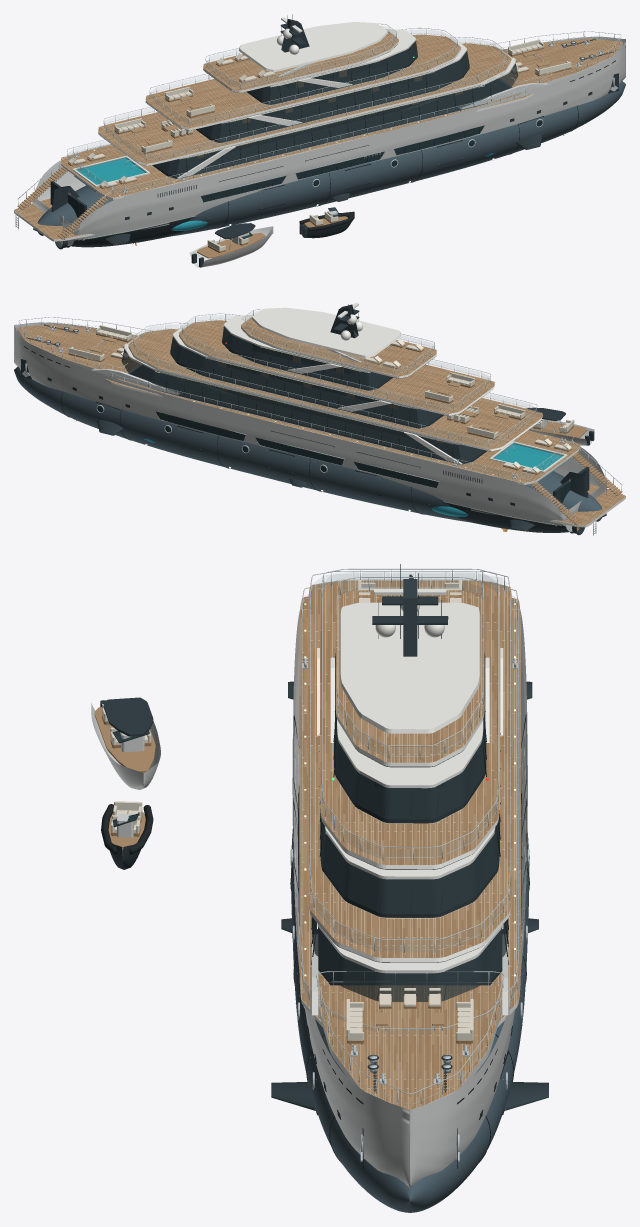
File: ATLAS_D_Reconstruction.glb
3 renders of one model, top to bottom at view 1: azimuth 30°, elevation 25°; view 2: azimuth 150°, elevation 25°; view 3: azimuth 270°, elevation 25°, orthographic. The views are drawn at different scales.
Visible parts, largest first — view 1: S_Hull__pearl, S_Architecture__archglass, D_Hull__subpaint, S_Architecture__graphite, S_Deck__teak1, S_Deck__teak0, S_Deck__teak3, S_Deck__teak2, S_Architecture__white, S_Rails__railglass, S_Rails__chrome, S_Mast__white (+20 smaller); view 2: S_Hull__pearl, S_Architecture__archglass, D_Hull__subpaint, S_Architecture__graphite, S_Deck__teak1, S_Deck__teak3, S_Deck__teak0, S_Deck__teak2, S_Architecture__white, S_Rails__railglass, S_Rails__chrome, S_Mast__white (+18 smaller); view 3: S_Hull__pearl, S_Architecture__white, S_Deck__teak3, S_Architecture__archglass, S_Architecture__graphite, S_Deck__teak1, S_Deck__teak0, S_Mast__white, S_Deck__teak2, D_Hull__subpaint, S_Rails__chrome, S_Rails__railglass (+10 smaller).
Boxes of the visible parts, x1,y1,x2,y2 form: S_Hull__pearl: [33, 36, 625, 245]; S_Architecture__archglass: [154, 41, 518, 176]; D_Hull__subpaint: [33, 81, 625, 236]; S_Architecture__graphite: [114, 44, 509, 178]; S_Deck__teak1: [15, 31, 622, 239]; S_Deck__teak0: [14, 33, 620, 238]; S_Deck__teak3: [14, 35, 621, 237]; S_Deck__teak2: [14, 34, 622, 239]; S_Architecture__white: [24, 29, 533, 239]; S_Rails__railglass: [68, 26, 542, 192]; S_Rails__chrome: [17, 23, 621, 238]; S_Mast__white: [239, 17, 387, 72]; S_Hull__pearl: [14, 322, 606, 531]; S_Architecture__archglass: [121, 327, 485, 462]; D_Hull__subpaint: [14, 366, 606, 521]; S_Architecture__graphite: [130, 330, 530, 464]; S_Deck__teak1: [18, 317, 624, 525]; S_Deck__teak3: [17, 319, 623, 525]; S_Deck__teak0: [18, 317, 625, 524]; S_Deck__teak2: [18, 319, 625, 525]; S_Architecture__white: [105, 314, 615, 525]; S_Rails__railglass: [98, 311, 572, 478]; S_Rails__chrome: [18, 309, 621, 524]; S_Mast__white: [252, 303, 400, 357]; S_Hull__pearl: [292, 609, 527, 1187]; S_Architecture__white: [299, 581, 520, 1027]; S_Deck__teak3: [299, 580, 520, 1109]; S_Architecture__archglass: [311, 658, 508, 1001]; S_Architecture__graphite: [312, 665, 507, 985]; S_Deck__teak1: [299, 580, 520, 1109]; S_Deck__teak0: [299, 580, 520, 1108]; S_Mast__white: [340, 588, 480, 733]; S_Deck__teak2: [299, 580, 520, 1109]; D_Hull__subpaint: [291, 785, 529, 1212]; S_Rails__chrome: [301, 568, 519, 1104]; S_Rails__railglass: [304, 571, 515, 1032].
Bounding box in the file's own units: 83.19 × 25.51 × 27.73.
